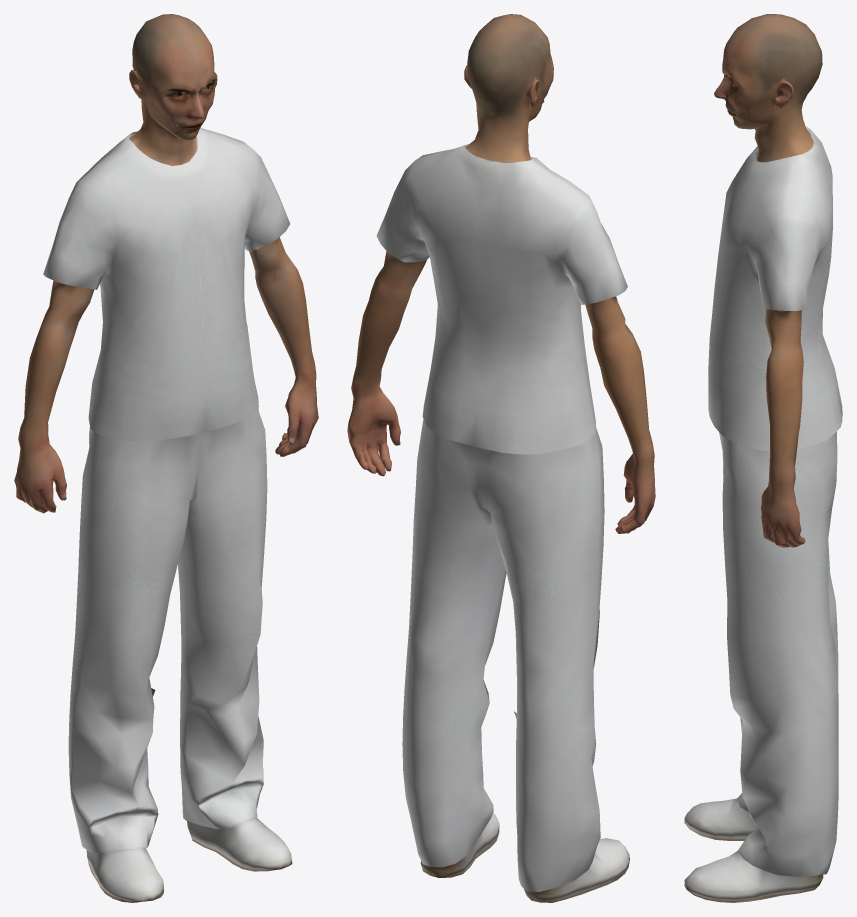
File: psycho_static.glb
3 views of the same model, side by side, from view 1: azimuth 30°, elevation 25°; view 2: azimuth 150°, elevation 25°; view 3: azimuth 270°, elevation 25° (orthographic).
Visible parts, largest first — view 1: geometry_0; view 2: geometry_0; view 3: geometry_0.
Part boxes in pixels (x1,y1,x2,y2): geometry_0: [14, 14, 318, 902]; geometry_0: [347, 14, 655, 902]; geometry_0: [684, 14, 842, 902].
Bounding box in the file's own units: 0.3511 × 0.9502 × 0.1616.
Materials: 1 (1 with a texture image).
